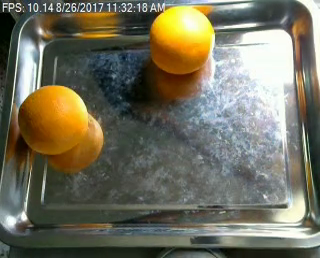Orange: (16, 83, 88, 153), (148, 4, 215, 75)
